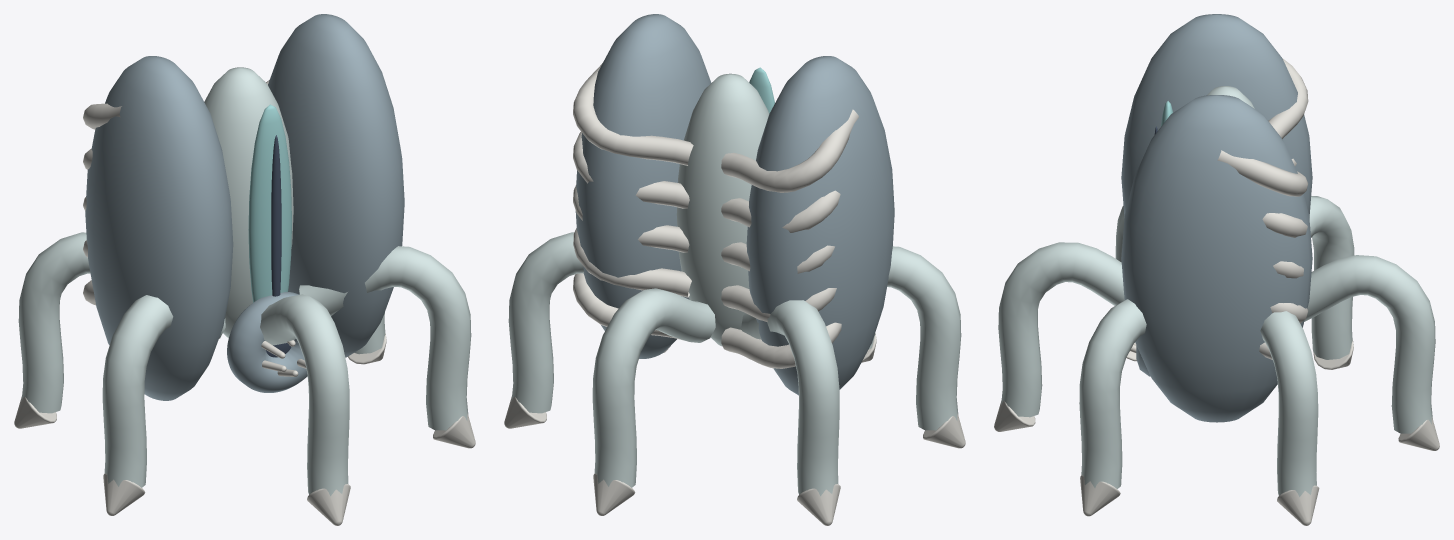
The model's file is bio_window_sac_03_near.glb.
The picture shows the model from 3 angles, left to right: view 1: azimuth 30°, elevation 25°; view 2: azimuth 150°, elevation 25°; view 3: azimuth 270°, elevation 25°; orthographic projection. The views are drawn at different scales.
Visible parts, largest first — view 1: Separated curved shell, Crooked support.005, Crooked support.004, Crooked support.003, Internal receptor sac, Crooked support.002, Single vertical photoreceptor, Raised oral lip, Long internal pupil, Shell window buttress, Contact spur.004, Contact spur.003 (+3 smaller); view 2: Separated curved shell, Shell window buttress, Internal receptor sac, Crooked support.001, Crooked support.002, Crooked support.003, Crooked support, Contact spur.002, Contact spur.001, Contact spur.003, Contact spur, Single vertical photoreceptor; view 3: Separated curved shell, Crooked support.001, Crooked support.004, Crooked support.005, Crooked support, Shell window buttress, Crooked support.002, Contact spur, Contact spur.005, Contact spur.001, Contact spur.004.
Boxes of the visible parts, x1=… form: Separated curved shell: x1=85, y1=14, x2=404, y2=400; Crooked support.005: x1=299, y1=246, x2=471, y2=430; Crooked support.004: x1=260, y1=294, x2=349, y2=496; Crooked support.003: x1=102, y1=295, x2=225, y2=487; Internal receptor sac: x1=204, y1=67, x2=293, y2=338; Crooked support.002: x1=18, y1=232, x2=90, y2=413; Single vertical photoreceptor: x1=248, y1=104, x2=291, y2=302; Raised oral lip: x1=227, y1=292, x2=307, y2=392; Long internal pupil: x1=271, y1=135, x2=281, y2=296; Shell window buttress: x1=83, y1=80, x2=269, y2=305; Contact spur.004: x1=307, y1=484, x2=350, y2=525; Contact spur.003: x1=103, y1=473, x2=145, y2=515; Separated curved shell: x1=575, y1=14, x2=894, y2=395; Shell window buttress: x1=573, y1=63, x2=858, y2=368; Internal receptor sac: x1=676, y1=73, x2=769, y2=346; Crooked support.001: x1=592, y1=288, x2=715, y2=487; Crooked support.002: x1=741, y1=300, x2=839, y2=496; Crooked support.003: x1=887, y1=246, x2=961, y2=430; Crooked support: x1=508, y1=232, x2=583, y2=413; Contact spur.002: x1=797, y1=484, x2=840, y2=525; Contact spur.001: x1=593, y1=473, x2=635, y2=515; Contact spur.003: x1=923, y1=413, x2=965, y2=448; Contact spur: x1=504, y1=396, x2=546, y2=428; Single vertical photoreceptor: x1=749, y1=67, x2=774, y2=113; Separated curved shell: x1=1121, y1=14, x2=1312, y2=422; Crooked support.001: x1=1304, y1=255, x2=1435, y2=433; Crooked support.004: x1=998, y1=242, x2=1124, y2=417; Crooked support.005: x1=1079, y1=299, x2=1146, y2=488; Crooked support: x1=1260, y1=311, x2=1318, y2=497; Shell window buttress: x1=1217, y1=59, x2=1308, y2=359; Crooked support.002: x1=1309, y1=196, x2=1354, y2=359; Contact spur: x1=1277, y1=485, x2=1319, y2=525; Contact spur.005: x1=1080, y1=475, x2=1120, y2=516; Contact spur.001: x1=1398, y1=417, x2=1439, y2=450; Contact spur.004: x1=994, y1=400, x2=1035, y2=431.
Bounding box in the file's own units: 1.93 × 2 × 2.1.
